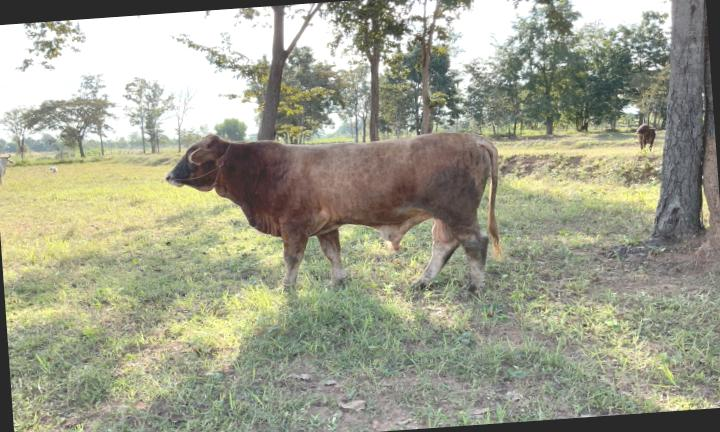Charolais: (166, 133, 501, 289)
